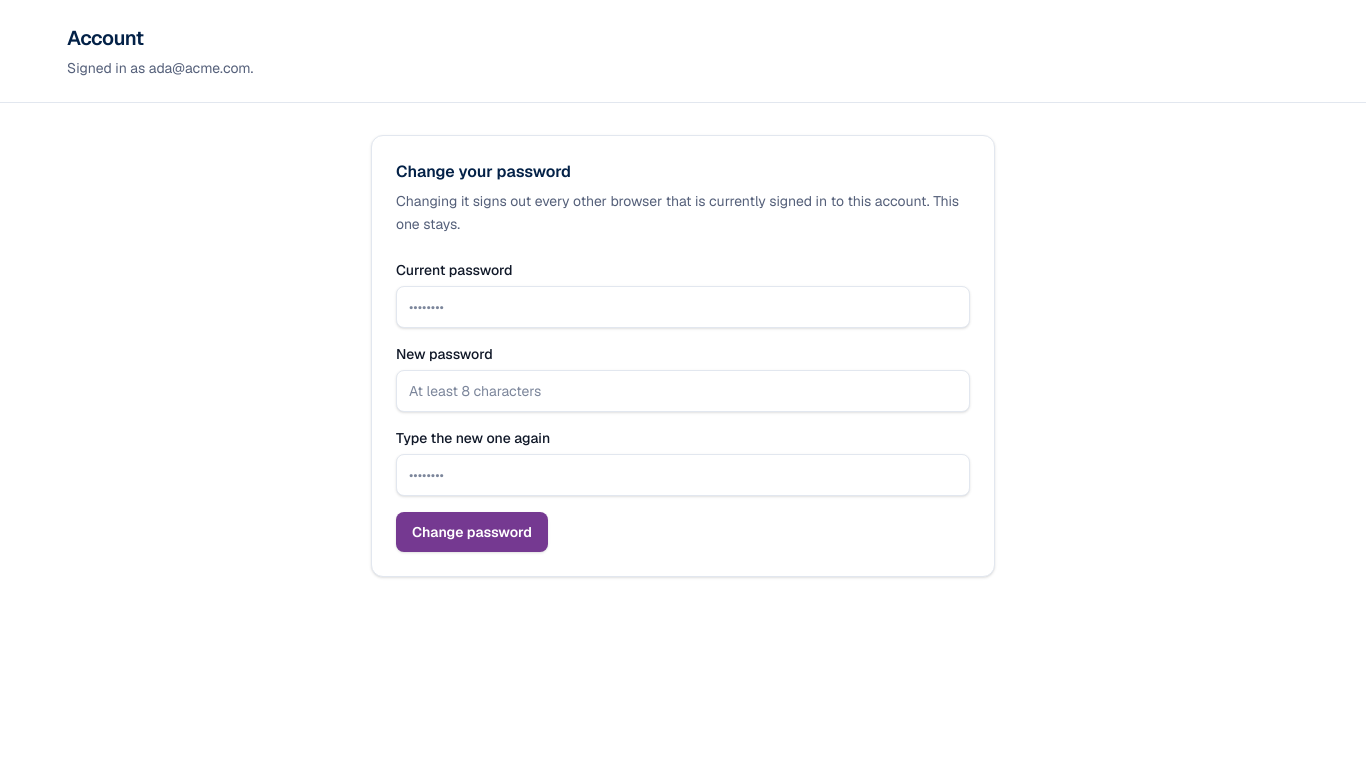
Test: the account screen › confirms, and says the other sessions are gone
Type "the-old-one" into the password field labelled "Current password" at {"x": 683, "y": 306}, box [396,286,970,328]
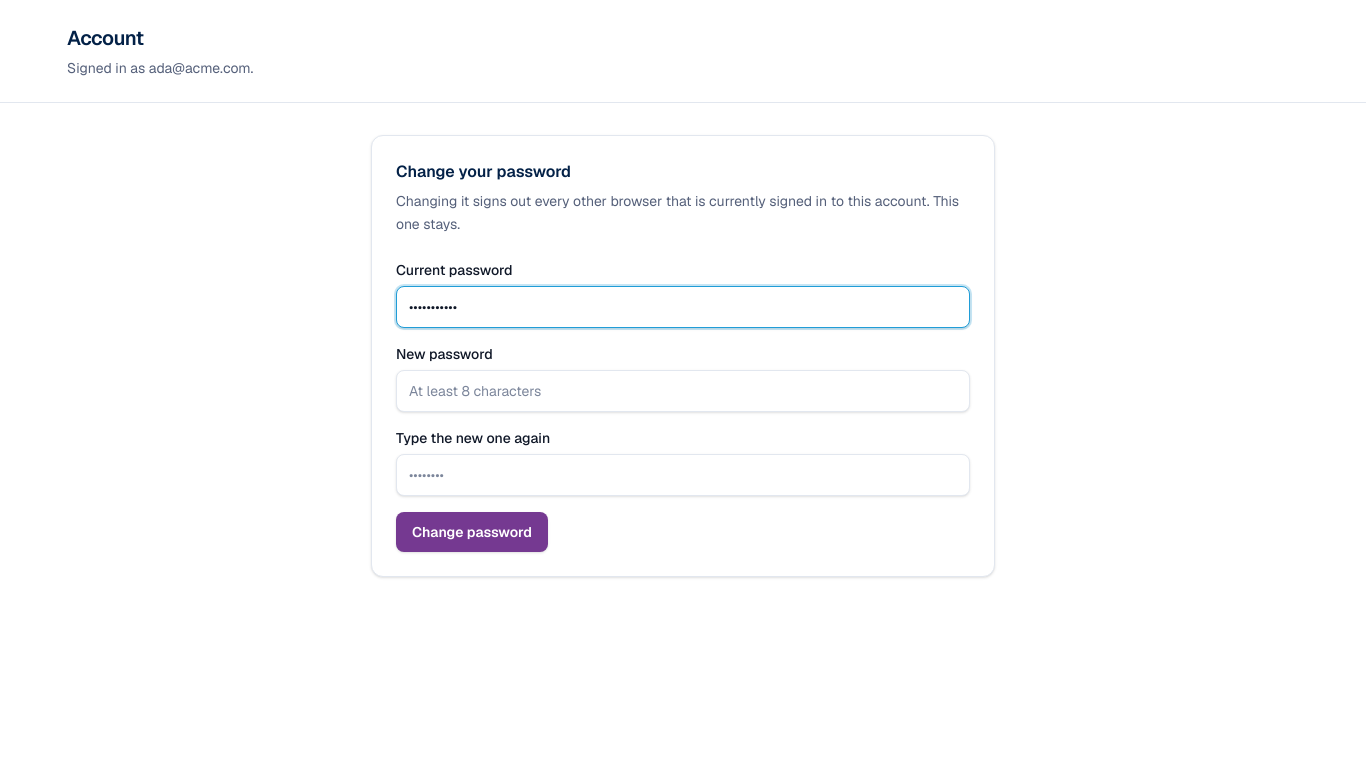
Type "a-much-better-one" into the password field labelled "New password" at {"x": 683, "y": 390}, box [396,370,970,412]
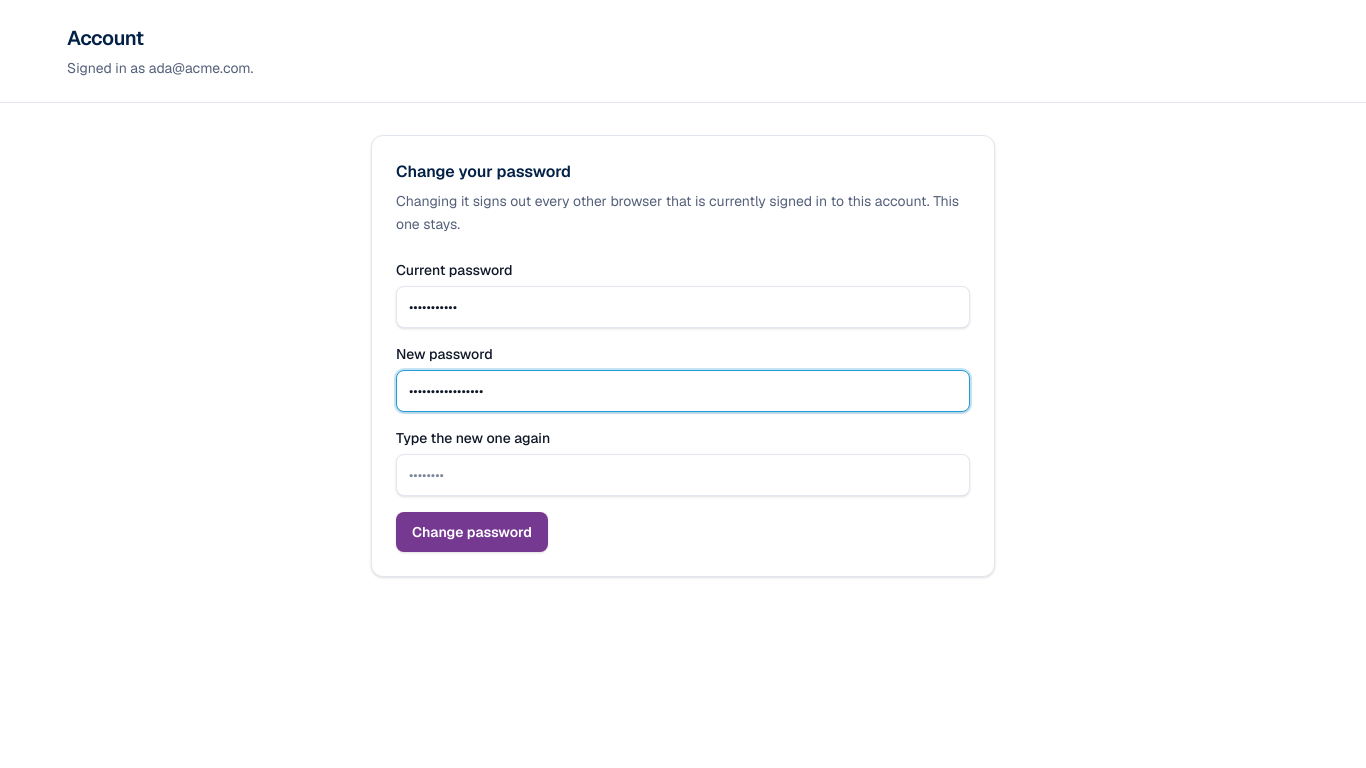
Type "a-much-better-one" into the password field labelled "Type the new one again" at {"x": 683, "y": 474}, box [396,454,970,496]
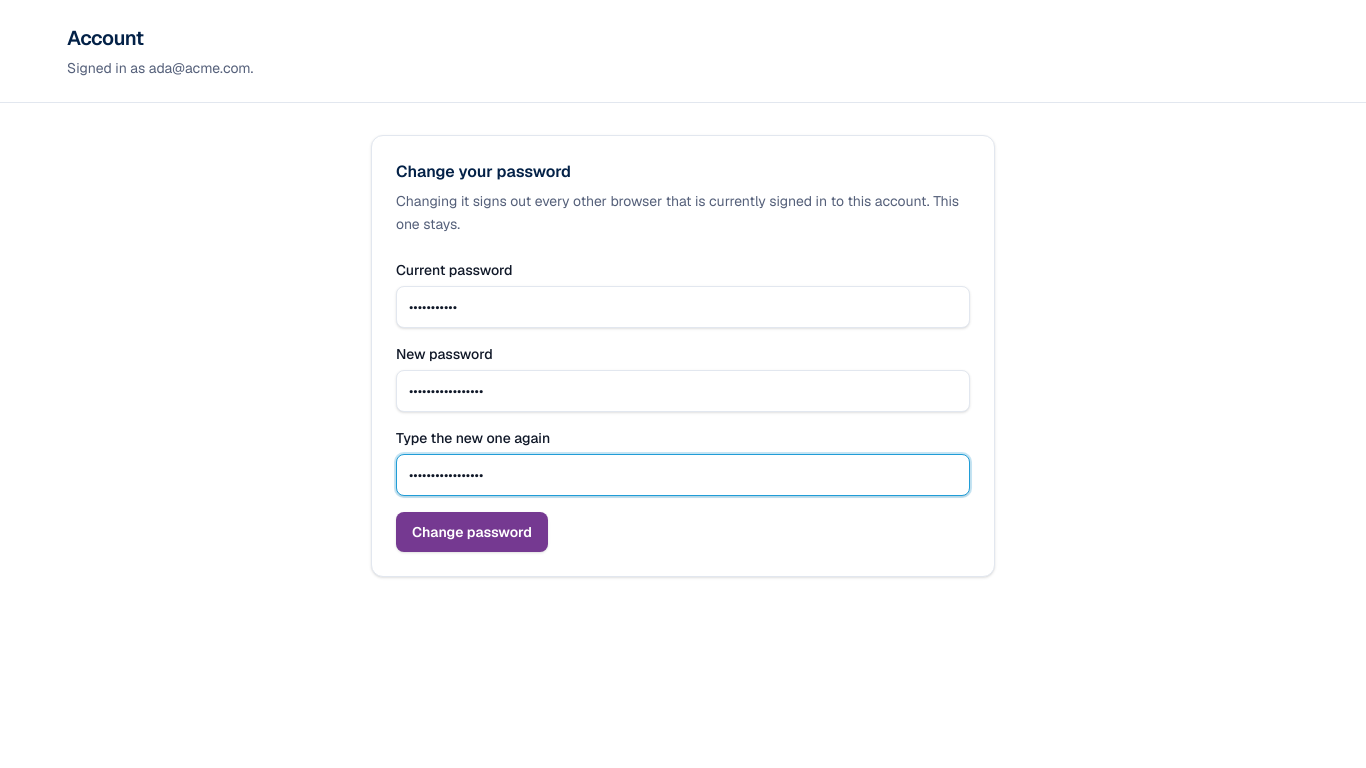
Click the button "Change password" at {"x": 472, "y": 532}, box [396,512,548,552]
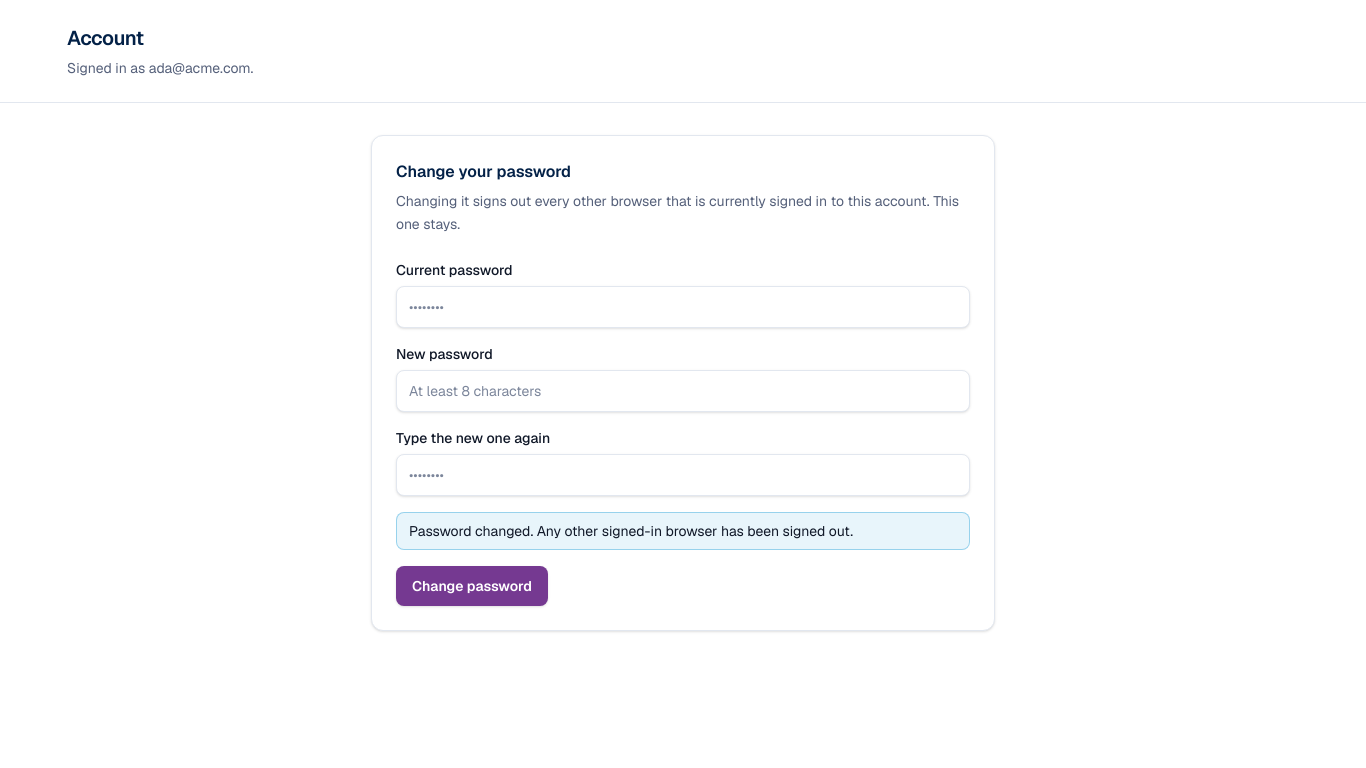
Result: the message shows "signed out" at [409,522,853,540]
